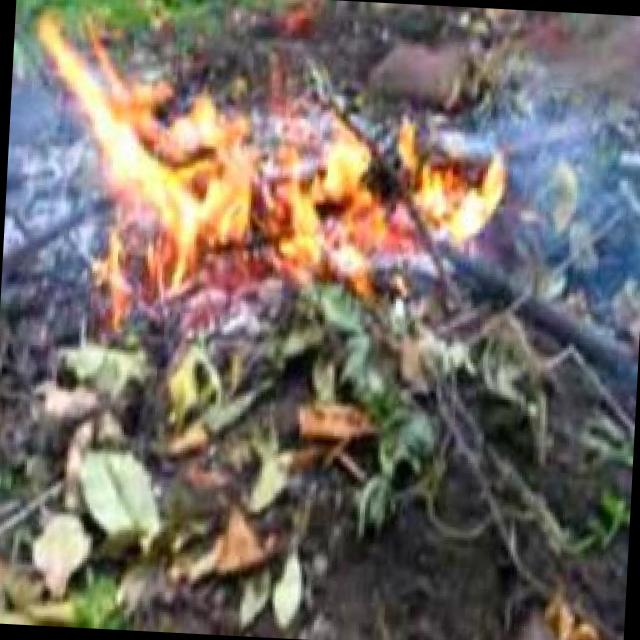Fire: (71, 21, 305, 292), (253, 125, 512, 288)
